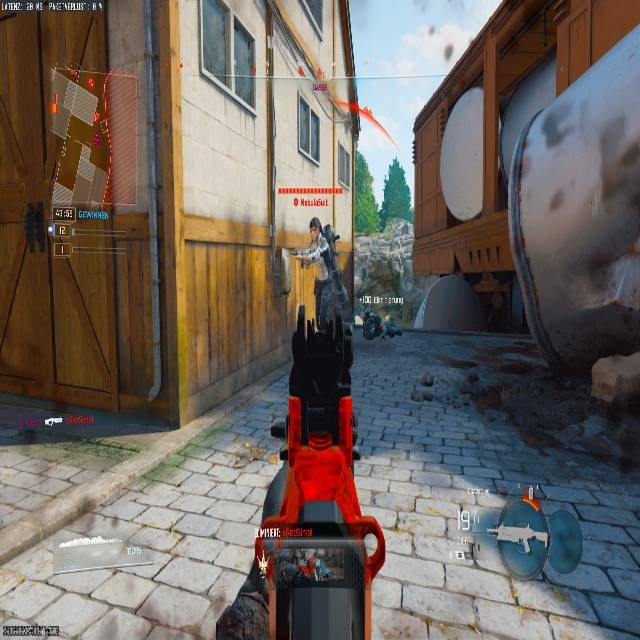head: (308, 217, 321, 238), (309, 213, 322, 230)
player: (289, 217, 349, 327), (361, 311, 402, 341), (306, 212, 328, 240)
